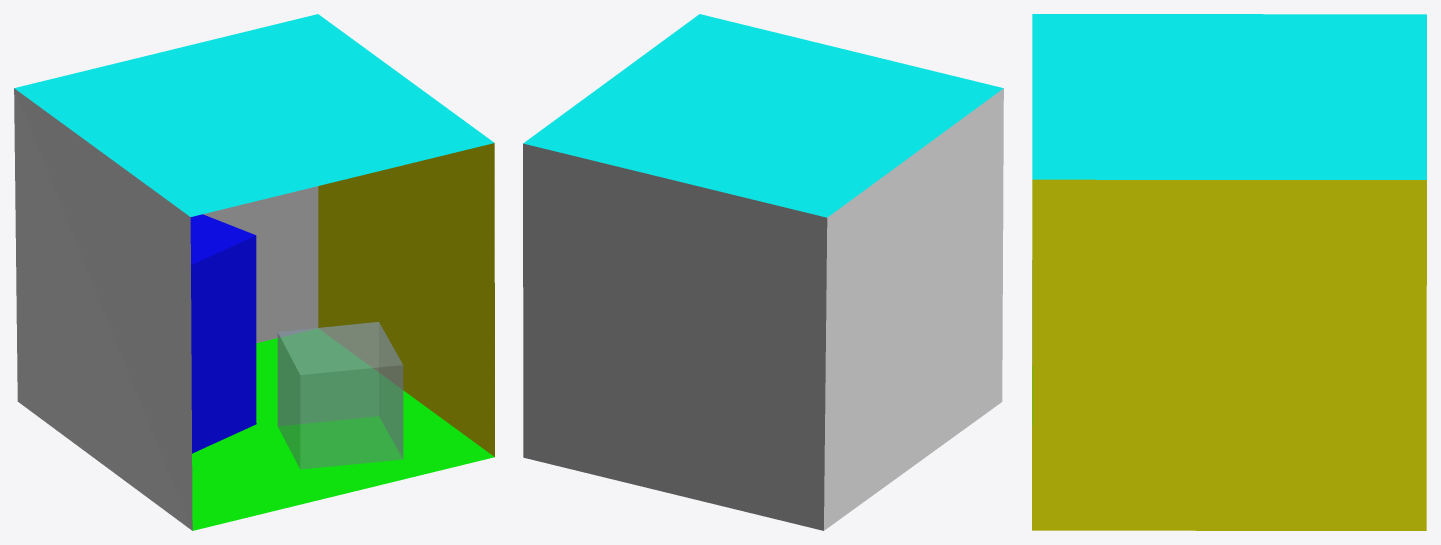
Rendered from Mirror-box.obj.
3 views of the same model, side by side, from view 1: azimuth 30°, elevation 25°; view 2: azimuth 150°, elevation 25°; view 3: azimuth 270°, elevation 25° (orthographic). The views are drawn at different scales.
Parts seen in each view (by area): view 1: left_wall, ceiling, right_wall, floor, short_box, tall_box, back_wall; view 2: back_wall, left_wall, ceiling; view 3: right_wall, ceiling.
Boxes of the visible parts, box(x1,y1,x2,y2) form: left_wall: box(14, 88, 192, 530); ceiling: box(14, 14, 494, 216); right_wall: box(318, 143, 494, 456); floor: box(192, 329, 494, 530); short_box: box(277, 322, 403, 469); tall_box: box(190, 214, 256, 453); back_wall: box(203, 186, 318, 343); back_wall: box(523, 143, 827, 530); left_wall: box(824, 88, 1003, 530); ceiling: box(523, 14, 1003, 217); right_wall: box(1032, 179, 1426, 530); ceiling: box(1032, 14, 1426, 179).
Size of the model in its own units: 5.56 by 5.49 by 5.6.
